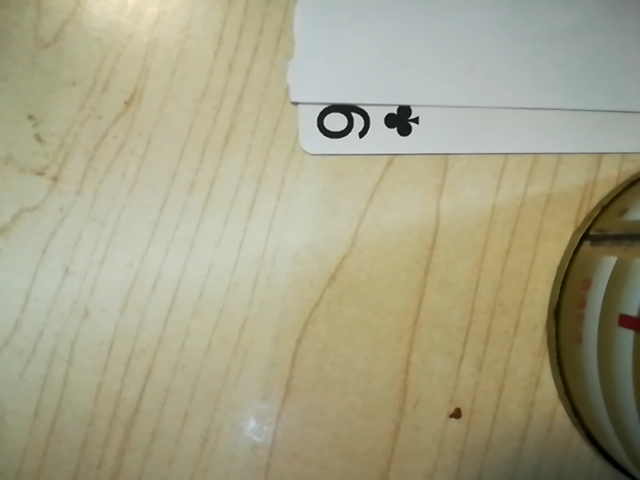mh 9: (300, 95, 427, 153)
